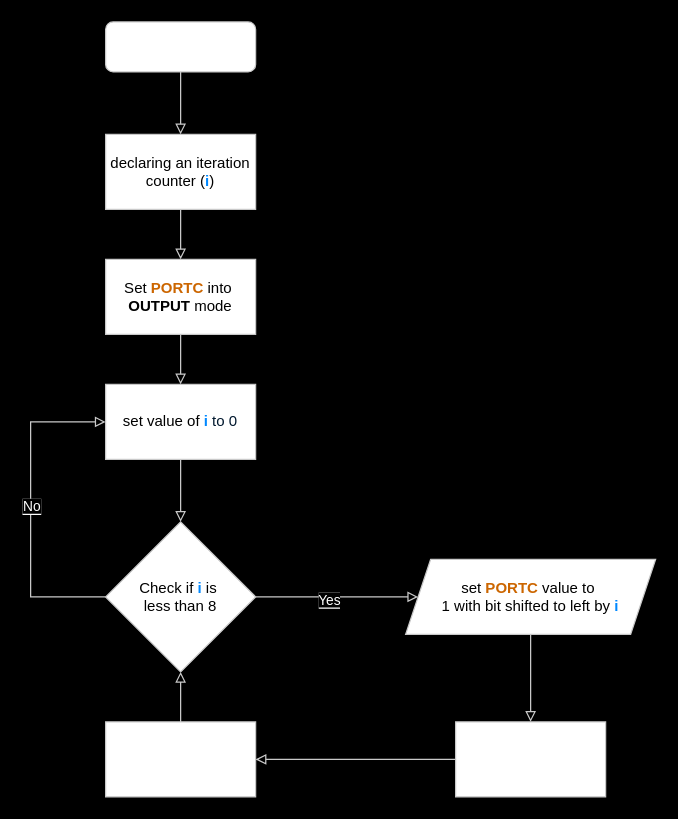
Image size: 678x819. Some labels were removed from this diagram. The centre of each missing label's shape, as x and y in pixels:
"delay by 500ms" belongs at [530,759].
"increment i by 1" belongs at [180,759].
"START" belongs at [180,46].
